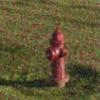a fire hydrant: (47, 26, 69, 88)
